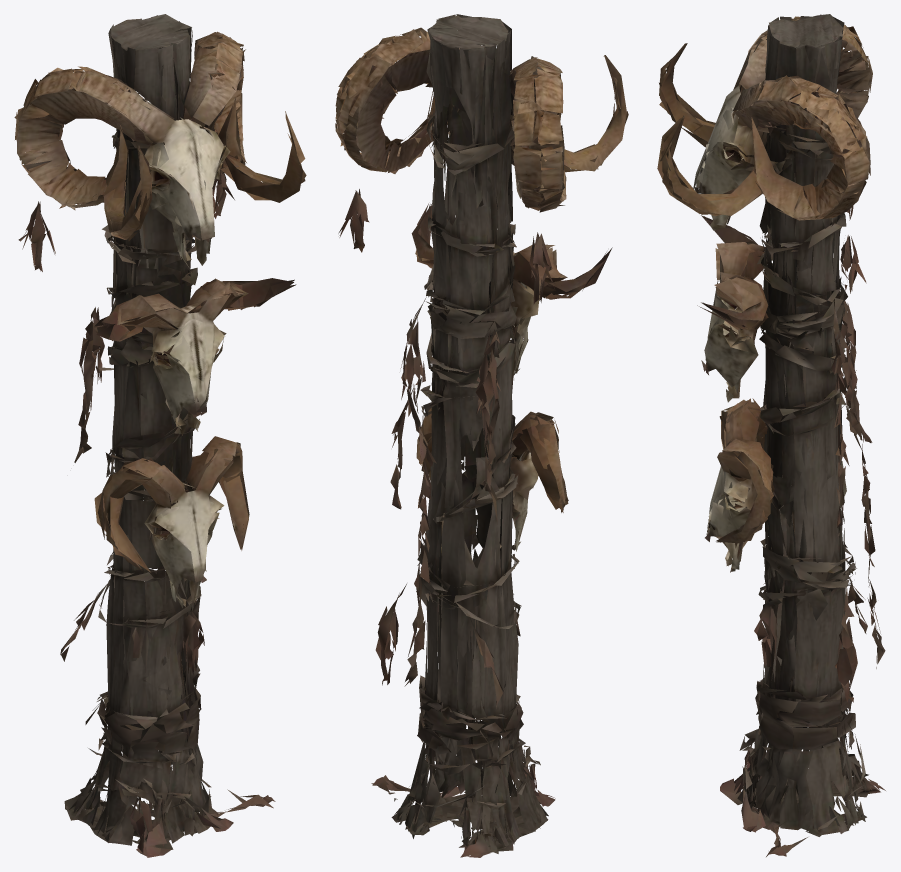
The model's file is goblin_totem.glb.
3 renders of one model, left to right at view 1: azimuth 30°, elevation 25°; view 2: azimuth 150°, elevation 25°; view 3: azimuth 270°, elevation 25°, orthographic.
Visible parts, largest first — view 1: goblin_totem; view 2: goblin_totem; view 3: goblin_totem.
Boxes of the visible parts, x1,y1,x2,y2 form: goblin_totem: (14, 14, 306, 857); goblin_totem: (335, 14, 628, 857); goblin_totem: (657, 14, 885, 856).
Size of the model in its own units: 1.1 by 3.69 by 0.9719.
1 material, 1 textured.
